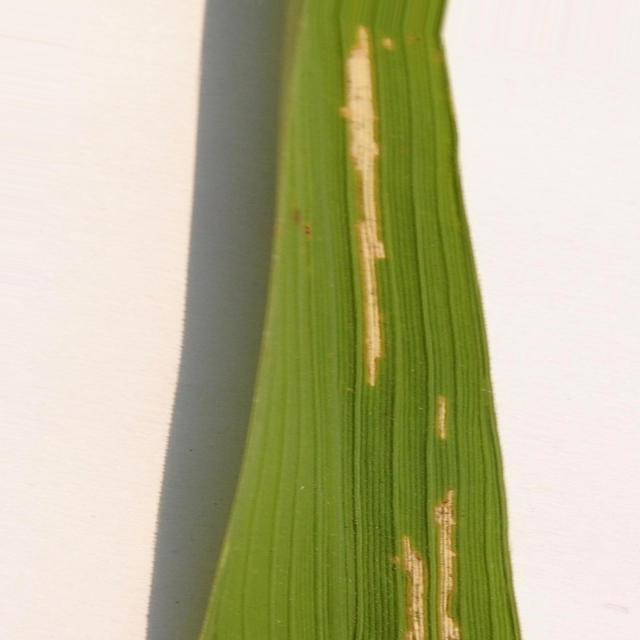Bacterial_Leaf_Blight: (341, 26, 385, 386), (434, 489, 460, 639), (396, 536, 428, 639), (436, 396, 448, 439), (381, 38, 394, 50)
